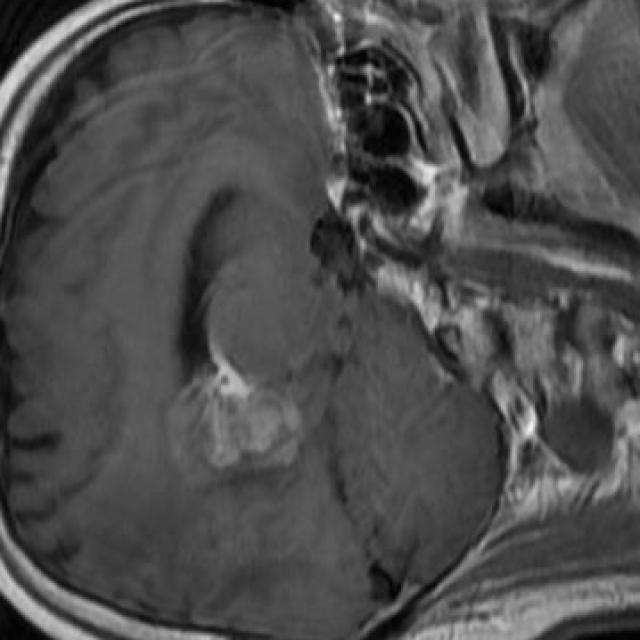glioma: (169, 369, 303, 483)
